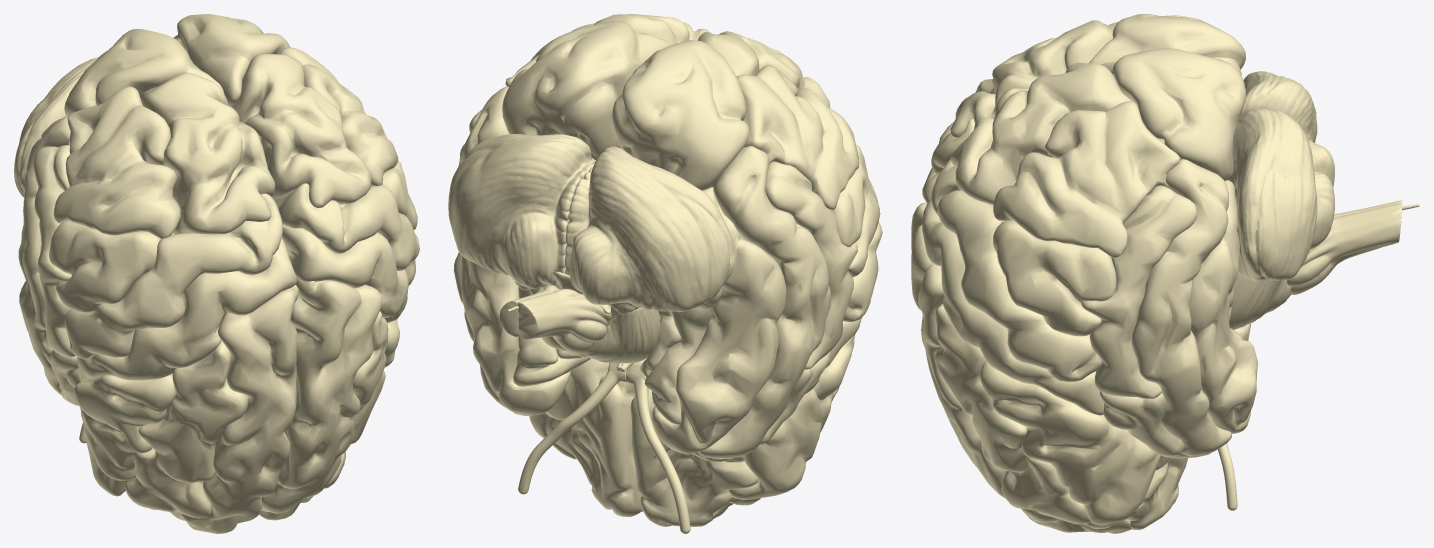
The model's file is head__nervous.ae30595dad.glb.
3 renders of one model, left to right at view 1: azimuth 30°, elevation 25°; view 2: azimuth 150°, elevation 25°; view 3: azimuth 270°, elevation 25°, orthographic. The views are drawn at different scales.
Visible parts, largest first — view 1: FMA72654, FMA72653, FMA72669, BP50, BP49, FMA72665, FMA72655, FMA72661, FMA72701, FMA72667, FMA72666, FMA72975 (+9 smaller); view 2: FMA67944, BP51, FMA72687, FMA72975, FMA72685, FMA72976, FMA72669, FMA72688, FMA72701, FMA72804, FMA62004, FMA72689 (+11 smaller); view 3: FMA72670, FMA67944, FMA72686, FMA72702, FMA72976, BP49, FMA72666, FMA72805, FMA72656, FMA72688, FMA72668, FMA72662 (+9 smaller).
Boxes of the visible parts, x1,y1,x2,y2 form: FMA72654: [258, 276, 382, 520]; FMA72653: [170, 285, 298, 533]; FMA72669: [53, 86, 180, 238]; BP50: [140, 72, 275, 234]; BP49: [229, 54, 371, 208]; FMA72665: [64, 193, 282, 359]; FMA72655: [125, 340, 248, 518]; FMA72661: [77, 237, 296, 382]; FMA72701: [74, 373, 175, 496]; FMA72667: [49, 220, 173, 312]; FMA72666: [274, 183, 419, 285]; FMA72975: [64, 29, 224, 115]; FMA67944: [448, 134, 734, 314]; BP51: [545, 358, 758, 526]; FMA72687: [652, 187, 786, 454]; FMA72975: [612, 40, 749, 190]; FMA72685: [698, 146, 831, 458]; FMA72976: [502, 21, 670, 159]; FMA72669: [736, 65, 859, 210]; FMA72688: [460, 256, 570, 415]; FMA72701: [728, 332, 856, 499]; FMA72804: [765, 161, 857, 369]; FMA62004: [499, 285, 611, 354]; FMA72689: [644, 287, 722, 424]; FMA72670: [993, 101, 1180, 258]; FMA67944: [1229, 71, 1334, 281]; FMA72686: [1131, 159, 1231, 456]; FMA72702: [980, 361, 1160, 525]; FMA72976: [1101, 48, 1245, 180]; BP49: [950, 62, 1135, 205]; FMA72666: [931, 159, 1101, 382]; FMA72805: [1081, 185, 1197, 398]; FMA72656: [935, 304, 1115, 529]; FMA72688: [1189, 180, 1258, 433]; FMA72668: [993, 220, 1116, 336]; FMA72662: [922, 199, 1104, 415].
Size of the model in its own units: 134 by 170 by 162.
